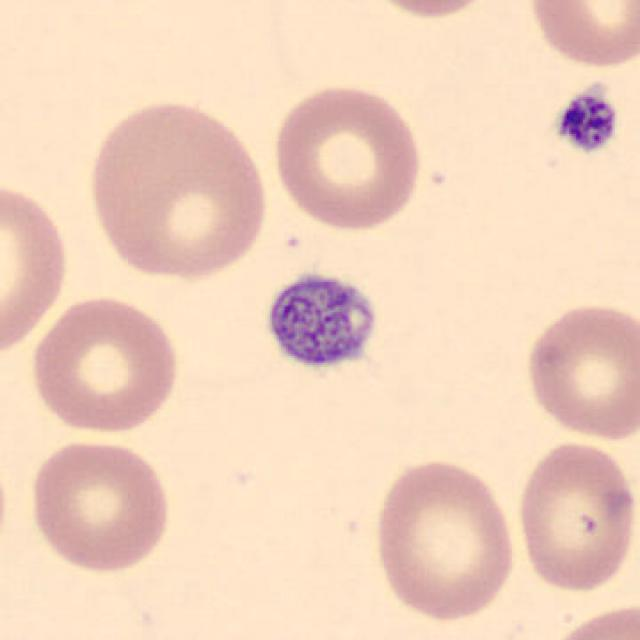Platelets: (260, 268, 384, 377), (551, 86, 621, 157)
RBC: (82, 95, 274, 286), (368, 455, 519, 626), (266, 80, 426, 234), (25, 291, 185, 437), (25, 434, 176, 576), (512, 437, 638, 596), (519, 298, 638, 444), (0, 173, 73, 365), (522, 0, 638, 72), (542, 599, 638, 640), (352, 0, 507, 21), (0, 442, 12, 569)
